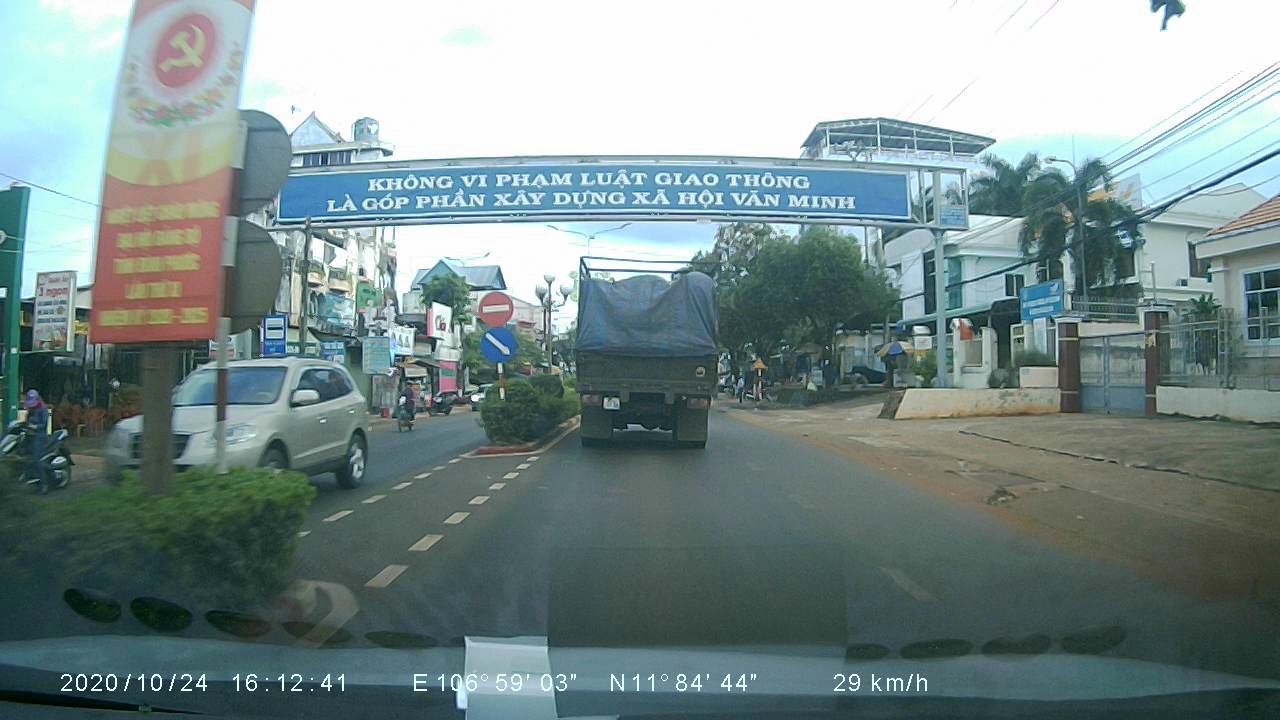Cam di nguoc chieu: (474, 285, 519, 326)
Huong di phai re phai: (477, 327, 518, 365)
